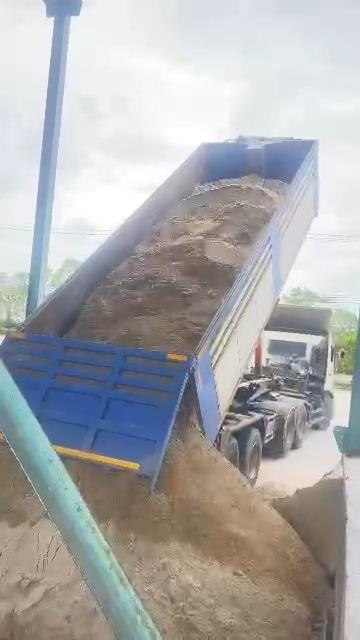sand: (68, 406, 327, 637), (69, 431, 326, 639), (69, 176, 285, 352), (71, 177, 283, 352), (0, 447, 111, 639), (0, 448, 111, 639), (273, 466, 344, 575), (256, 484, 287, 504)
